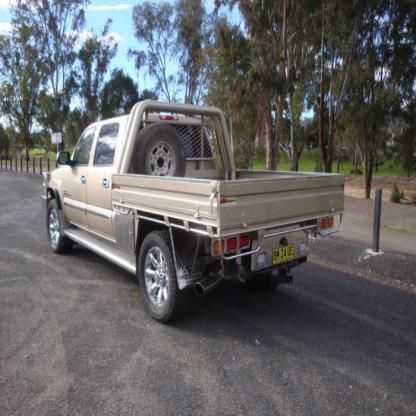light_vehicle: (35, 93, 352, 326)
